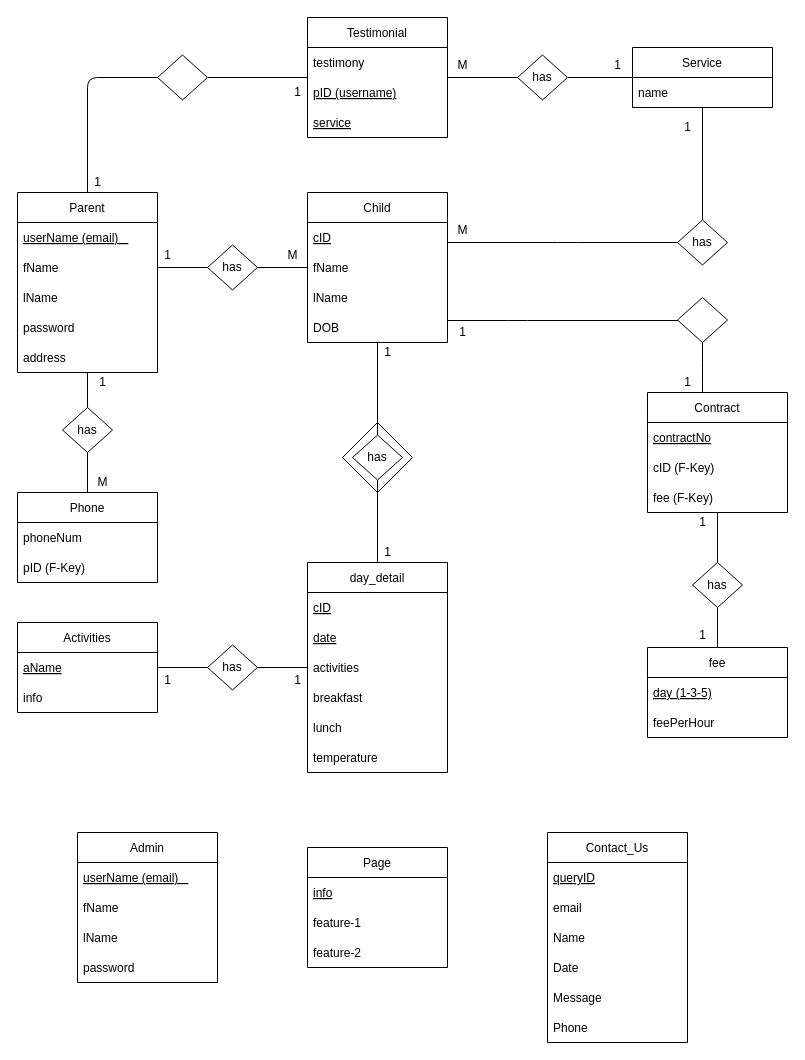
The diagram is 805 pixels wide and 1060 high, and some of its shapes have lost their labels. Each missing label, with the centre of its shape:
"gives" belongs at [182,77].
"in" belongs at [702,319].
